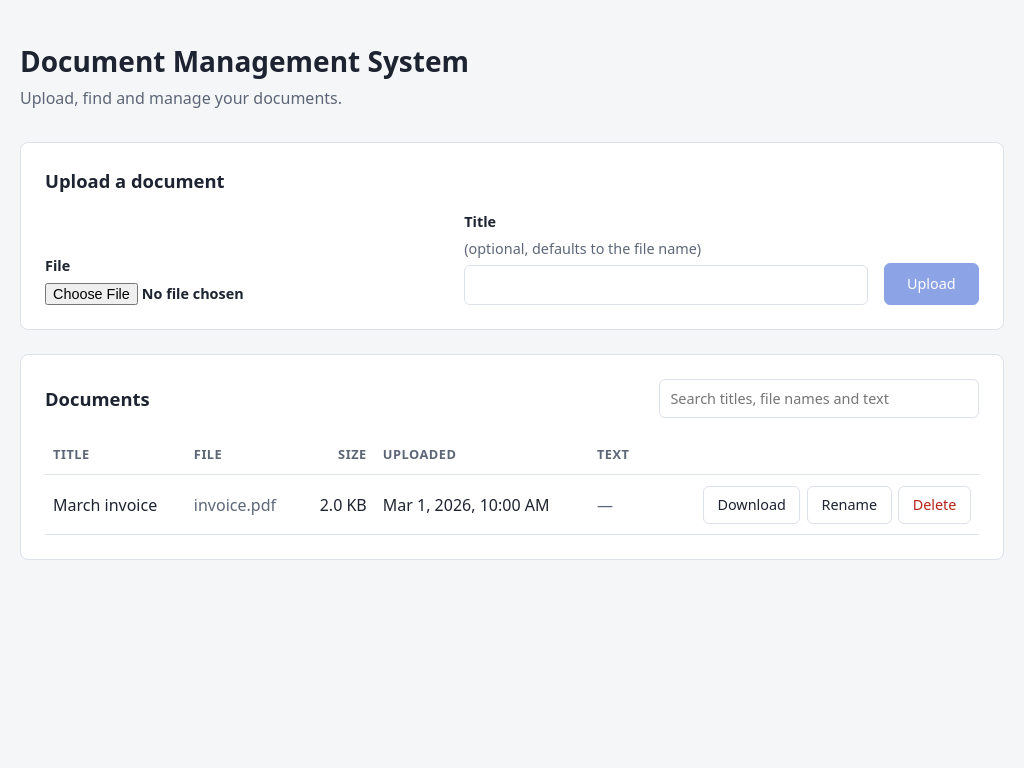
Test: App › searches as the user types
Expected: the text "March invoice" is shown, [45,475,186,534]
Type "tax" into the search field named "Search documents" at (819, 398), box [659,379,979,418]
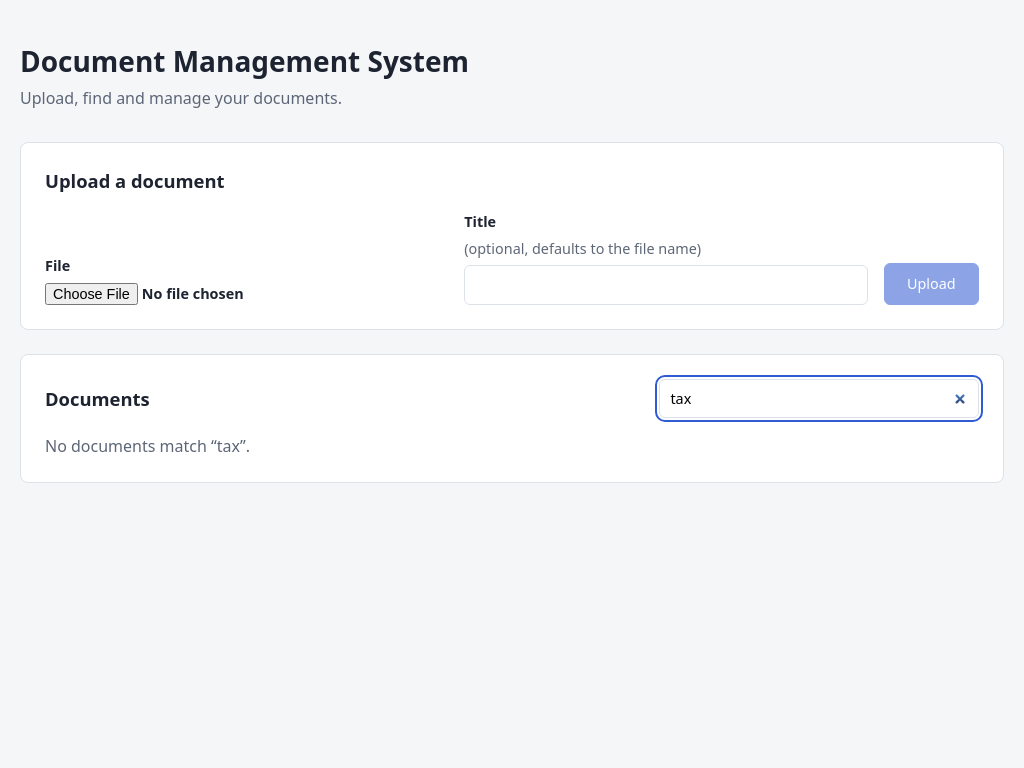
Result: the text "No documents match “tax”." is shown at [45,435,250,457]
